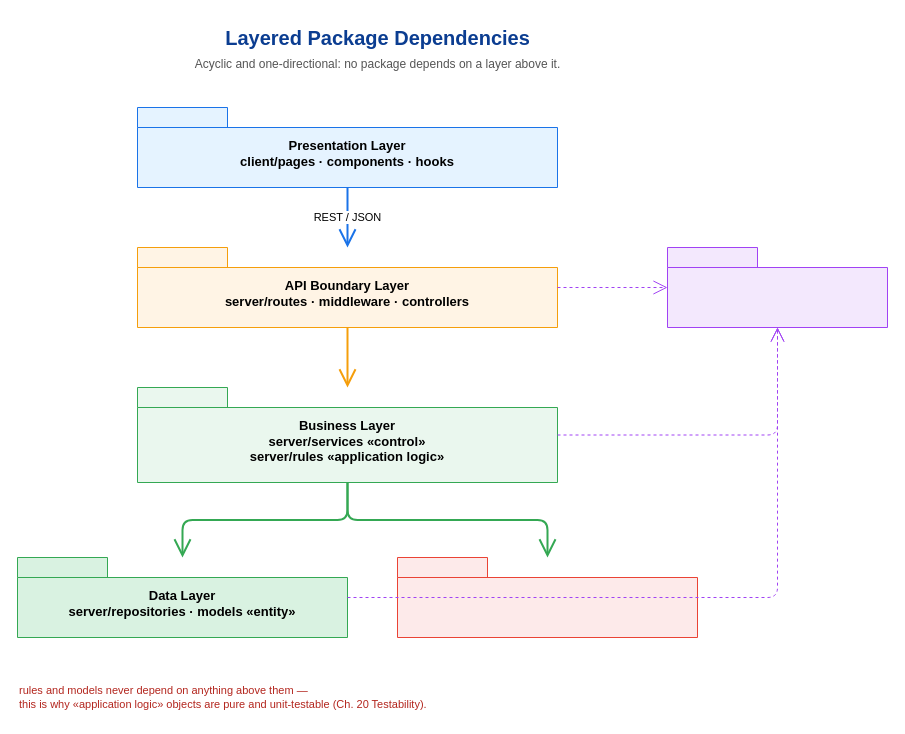
Image size: 905x734. Some labels were removed from this diagram. The shapes that lost their labels are listed below. From the top down, each one's centre as x and y in pixels, then its label:
pixel 777 287: Cross-cutting server/utils · dto
pixel 547 597: Integration Layer server/proxies «boundary»
